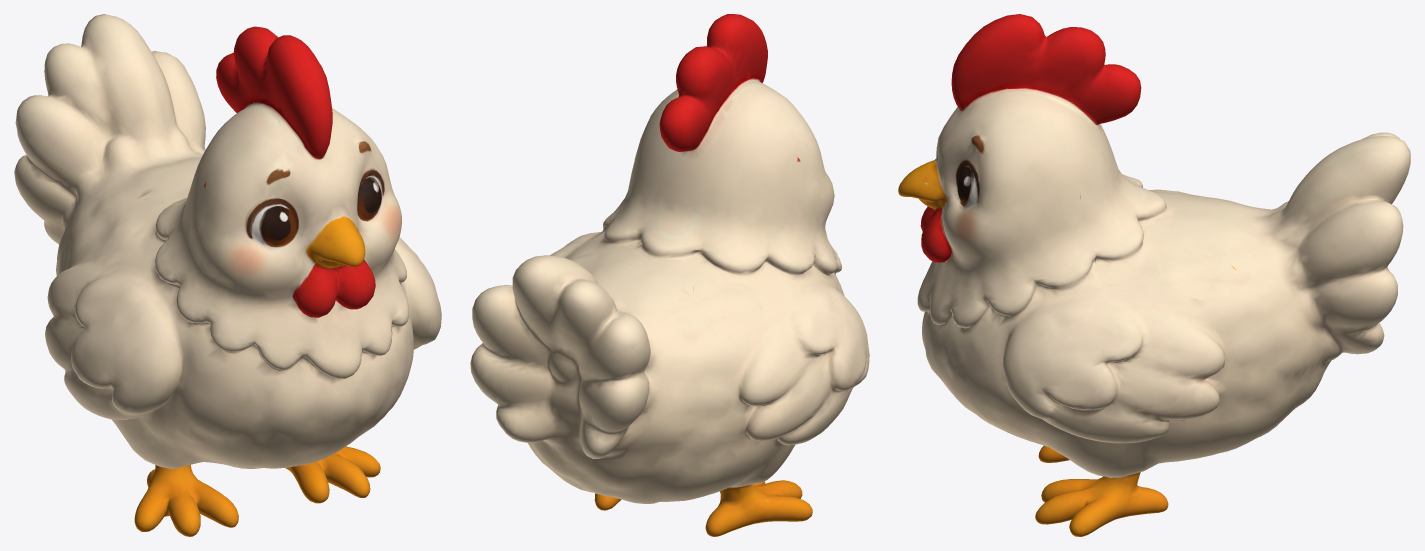
The picture shows the model from 3 angles, left to right: view 1: azimuth 30°, elevation 25°; view 2: azimuth 150°, elevation 25°; view 3: azimuth 270°, elevation 25°; orthographic projection. The views are drawn at different scales.
Parts seen in each view (by area): view 1: tripo_node_909925ff-afa2-4530-8439-14f511983338; view 2: tripo_node_909925ff-afa2-4530-8439-14f511983338; view 3: tripo_node_909925ff-afa2-4530-8439-14f511983338.
Boxes of the visible parts, x1,y1,x2,y2 form: tripo_node_909925ff-afa2-4530-8439-14f511983338: [14, 14, 441, 536]; tripo_node_909925ff-afa2-4530-8439-14f511983338: [470, 14, 869, 536]; tripo_node_909925ff-afa2-4530-8439-14f511983338: [898, 14, 1410, 536].
Bounding box in the file's own units: 0.2952 × 0.4 × 0.3967.
Materials: 1 (1 with a texture image).
